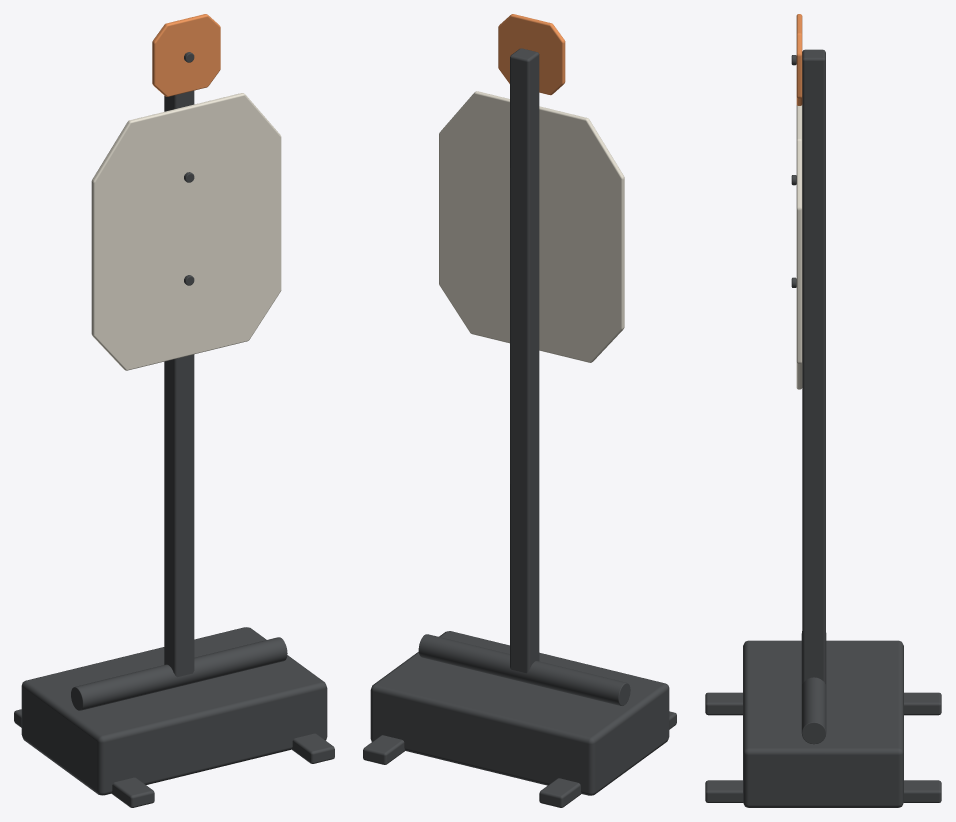
File: target.glb
The picture shows the model from 3 angles, left to right: view 1: azimuth 30°, elevation 25°; view 2: azimuth 150°, elevation 25°; view 3: azimuth 270°, elevation 25°; orthographic projection. The views are drawn at different scales.
Visible parts, largest first — view 1: Body, Base, Post, Head; view 2: Body, Base, Post, Head; view 3: Base, Post, Body, Head.
Part boxes in pixels (bbox=[...]): Body: bbox=[91, 93, 281, 370]; Base: bbox=[14, 627, 334, 807]; Post: bbox=[164, 52, 194, 677]; Head: bbox=[152, 14, 220, 96]; Body: bbox=[439, 91, 624, 362]; Base: bbox=[363, 631, 676, 807]; Post: bbox=[510, 48, 539, 673]; Head: bbox=[498, 14, 565, 95]; Base: bbox=[705, 631, 941, 807]; Post: bbox=[791, 49, 825, 683]; Body: bbox=[796, 105, 802, 389]; Head: bbox=[796, 14, 802, 105].
Bounding box in the file's own units: 0.56 × 1.71 × 0.5.
